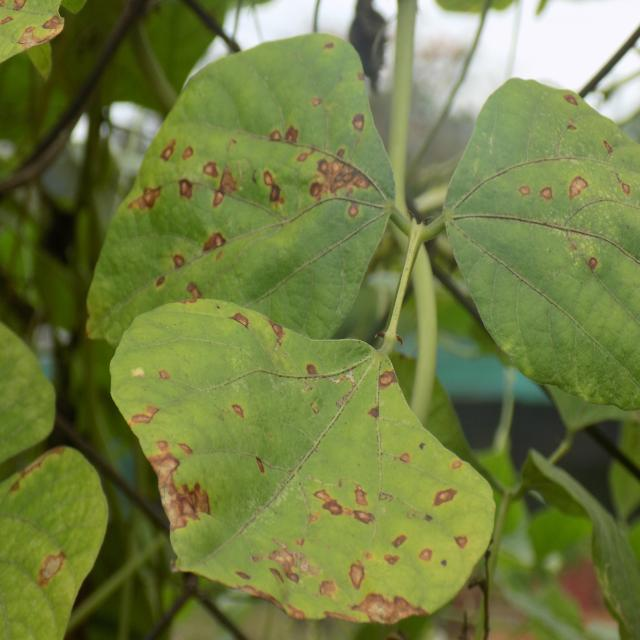Dolicos bean_cercospora leaf spot: (110, 295, 491, 620), (81, 32, 392, 364), (432, 75, 640, 413)
